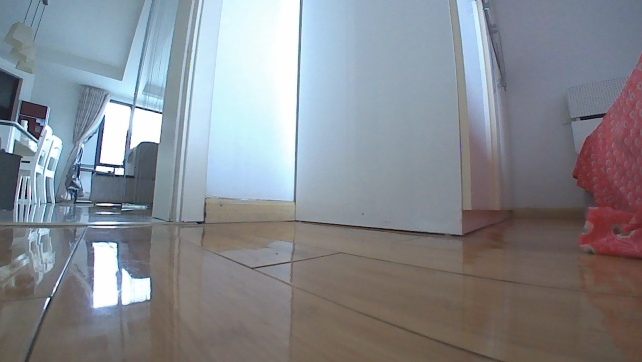bed1: (560, 49, 641, 258)
dining_table: (0, 119, 67, 207)
sofa1: (86, 140, 158, 208)
